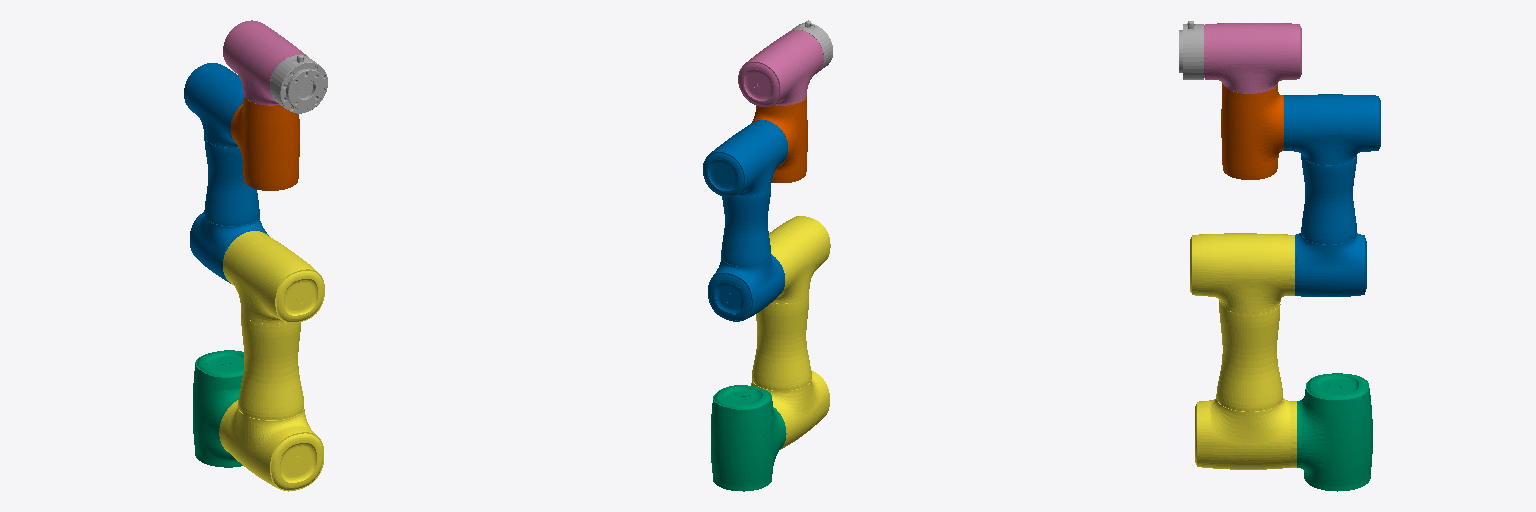
The robot description file, URDF, robot "cr3_robot":
<?xml version="1.0" encoding="utf-8"?>
<!-- This URDF was automatically created by SolidWorks to URDF Exporter! Originally created by [author] ([email redacted]) 
     Commit Version: 1.6.0-1-g15f4949  Build Version: 1.6.7594.29634
     For more information, please see http://wiki.ros.org/sw_urdf_exporter -->
<robot
  name="cr3_robot">
  <link name="dummy_link" />
  <link
    name="base_link">
    <inertial>
      <origin
        xyz="-0.0027213 3.915E-07 0.022038"
        rpy="0 0 0" />
      <mass
        value="0.653" />
      <inertia
        ixx="0.00075137"
        ixy="-3.0366E-08"
        ixz="1.2825E-06"
        iyy="0.00080094"
        iyz="2.5423E-09"
        izz="0.0010902" />
    </inertial>
    <visual>
      <origin
        xyz="0 0 0"
        rpy="0 0 -1.57" />
      <geometry>
        <mesh
          filename="package://tesr_ros_cr3_pkg/meshes/base_link.dae" />
      </geometry>
    </visual>
    <collision>
      <origin
        xyz="0 0 0"
        rpy="0 0 0" />
      <geometry>
        <mesh
          filename="package://tesr_ros_cr3_pkg/meshes/base_link.STL" />
      </geometry>
    </collision>
  </link>

    <joint name="dummy_joint" type="fixed">
      <parent link="dummy_link" />
      <child  link="base_link" />
    </joint>

  <link
    name="Link1">
    <inertial>
      <origin
        xyz="-3.68657602416735E-05 -0.00394516685385322 0.00364037839421286"
        rpy="0 0 0" />
      <mass
        value="1.31100598822002" />
      <inertia
        ixx="0.00202531167977736"
        ixy="-1.62039964254407E-06"
        ixz="4.44242218921916E-07"
        iyy="0.00198085794611413"
        iyz="0.000256891817572315"
        izz="0.00183966900872187" />
    </inertial>
    <visual>
      <origin
        xyz="0 0 0"
        rpy="0 0 0" />
      <geometry>
        <mesh
          filename="package://tesr_ros_cr3_pkg/meshes/Link1.dae" />
      </geometry>
    </visual>
    <collision>
      <origin
        xyz="0 0 0"
        rpy="0 0 0" />
      <geometry>
        <mesh
          filename="package://tesr_ros_cr3_pkg/meshes/Link1.STL" />
      </geometry>
    </collision>
  </link>
  <joint
    name="joint1"
    type="revolute">
    <origin
      xyz="0 0 0.1283"
      rpy="0 0 0" />
    <parent
      link="base_link" />
    <child
      link="Link1" />
    <axis
      xyz="0 0 1" />
    <limit
      lower="-3.14"
      upper="3.14"
      effort="0"
      velocity="0" />
  </joint>
  <link
    name="Link2">
    <inertial>
      <origin
        xyz="-0.129235280055448 1.440541622715E-05 0.133173619961293"
        rpy="0 0 0" />
      <mass
        value="3.40043726977504" />
      <inertia
        ixx="0.00450581324845612"
        ixy="1.58054368766225E-06"
        ixz="8.56287041890268E-05"
        iyy="0.00632329822349442"
        iyz="-4.41201729949356E-07"
        izz="0.00578241711656701" />
    </inertial>
    <visual>
      <origin
        xyz="0 0 0"
        rpy="0 0 0" />
      <geometry>
        <mesh
          filename="package://tesr_ros_cr3_pkg/meshes/Link2.dae" />
      </geometry>
    </visual>
    <collision>
      <origin
        xyz="0 0 0"
        rpy="0 0 0" />
      <geometry>
        <mesh
          filename="package://tesr_ros_cr3_pkg/meshes/Link2.STL" />
      </geometry>
    </collision>
  </link>
  <joint
    name="joint2"
    type="revolute">
    <origin
      xyz="0 0 0"
      rpy="1.5708 1.5708 0" />
    <parent
      link="Link1" />
    <child
      link="Link2" />
    <axis
      xyz="0 0 1" />
    <limit
      lower="-3.14"
      upper="3.14"
      effort="0"
      velocity="0" />
  </joint>
  <link
    name="Link3">
    <inertial>
      <origin
        xyz="-0.119822632176479 8.63344146663093E-08 0.0099876637825216"
        rpy="0 0 0" />
      <mass
        value="2.21449412948544" />
      <inertia
        ixx="0.00236120280734313"
        ixy="1.81888962826726E-08"
        ixz="0.000137629457194959"
        iyy="0.00313635345351584"
        iyz="-1.39166877342495E-08"
        izz="0.00285118872456311" />
    </inertial>
    <visual>
      <origin
        xyz="0 0 0"
        rpy="0 0 0" />
      <geometry>
        <mesh
          filename="package://tesr_ros_cr3_pkg/meshes/Link3.dae" />
      </geometry>
    </visual>
    <collision>
      <origin
        xyz="0 0 0"
        rpy="0 0 0" />
      <geometry>
        <mesh
          filename="package://tesr_ros_cr3_pkg/meshes/Link3.STL" />
      </geometry>
    </collision>
  </link>
  <joint
    name="joint3"
    type="revolute">
    <origin
      xyz="-0.274 0 0"
      rpy="0 0 0" />
    <parent
      link="Link2" />
    <child
      link="Link3" />
    <axis
      xyz="0 0 1" />
    <limit
      lower="-3.14"
      upper="3.14"
      effort="0"
      velocity="0" />
  </joint>
  <link
    name="Link4">
    <inertial>
      <origin
        xyz="1.74679534498573E-07 0.0034522361215461 -0.0028730999658578"
        rpy="0 0 0" />
      <mass
        value="0.842272956366123" />
      <inertia
        ixx="0.00100389823526424"
        ixy="-3.26498724132116E-09"
        ixz="-3.83652674720848E-09"
        iyy="0.000793473566890046"
        iyz="0.000133420135294005"
        izz="0.000993889852029541" />
    </inertial>
    <visual>
      <origin
        xyz="0 0 0"
        rpy="0 0 0" />
      <geometry>
        <mesh
          filename="package://tesr_ros_cr3_pkg/meshes/Link4.dae" />
      </geometry>
    </visual>
    <collision>
      <origin
        xyz="0 0 0"
        rpy="0 0 0" />
      <geometry>
        <mesh
          filename="package://tesr_ros_cr3_pkg/meshes/Link4.STL" />
      </geometry>
    </collision>
  </link>
  <joint
    name="joint4"
    type="revolute">
    <origin
      xyz="-0.23 0 0.1283"
      rpy="0 0 -1.5708" />
    <parent
      link="Link3" />
    <child
      link="Link4" />
    <axis
      xyz="0 0 1" />
    <limit
      lower="-3.14"
      upper="3.14"
      effort="0"
      velocity="0" />
  </joint>
  <link
    name="Link5">
    <inertial>
      <origin
        xyz="-1.74603758796282E-07 -0.00333192403958193 -0.00286780844130663"
        rpy="0 0 0" />
      <mass
        value="0.843692877114241" />
      <inertia
        ixx="0.0010085532680982"
        ixy="-7.28325271824168E-09"
        ixz="9.25818664621925E-09"
        iyy="0.000794614679668754"
        iyz="-0.000133904812596915"
        izz="0.000998497358703575" />
    </inertial>
    <visual>
      <origin
        xyz="0 0 0"
        rpy="0 0 0" />
      <geometry>
        <mesh
          filename="package://tesr_ros_cr3_pkg/meshes/Link5.dae" />
      </geometry>
    </visual>
    <collision>
      <origin
        xyz="0 0 0"
        rpy="0 0 0" />
      <geometry>
        <mesh
          filename="package://tesr_ros_cr3_pkg/meshes/Link5.STL" />
      </geometry>
    </collision>
  </link>
  <joint
    name="joint5"
    type="revolute">
    <origin
      xyz="0 -0.116 0"
      rpy="1.5708 0 0" />
    <parent
      link="Link4" />
    <child
      link="Link5" />
    <axis
      xyz="0 0 1" />
    <limit
      lower="-3.14"
      upper="3.14"
      effort="0"
      velocity="0" />
  </joint>
  <link
    name="Link6">
    <inertial>
      <origin
        xyz="-5.77233004964394E-07 0.000270130842674243 -0.0201386770129675"
        rpy="0 0 0" />
      <mass
        value="0.159409278145106" />
      <inertia
        ixx="8.29484481057063E-05"
        ixy="-1.45209400395148E-09"
        ixz="-1.72340872805449E-11"
        iyy="8.35928339777967E-05"
        iyz="-1.33911019721127E-07"
        izz="0.000131911087085913" />
    </inertial>
    <visual>
      <origin
        xyz="0 0 0"
        rpy="0 0 0" />
      <geometry>
        <mesh
          filename="package://tesr_ros_cr3_pkg/meshes/Link6.dae" />
      </geometry>
    </visual>
    <collision>
      <origin
        xyz="0 0 0"
        rpy="0 0 0" />
      <geometry>
        <mesh
          filename="package://tesr_ros_cr3_pkg/meshes/Link6.STL" />
      </geometry>
    </collision>
  </link>
  <joint
    name="joint6"
    type="revolute">
    <origin
      xyz="0 0.105 0"
      rpy="-1.5708 0 0" />
    <parent
      link="Link5" />
    <child
      link="Link6" />
    <axis
      xyz="0 0 1" />
    <limit
      lower="-3.14"
      upper="3.14"
      effort="0"
      velocity="0" />
  </joint>
</robot>

--- What the picture shows (computed from the rendered views, not written in the file) ---
3 views of the same robot in one strip: view 1: azimuth 30°, elevation 25°; view 2: azimuth 150°, elevation 25°; view 3: azimuth 270°, elevation 25° (orthographic).
Model cr3_robot with 8 links and 7 joints (6 revolute, 1 fixed), rooted at dummy_link, posed all joints at 0.
Visible links, largest first — view 1: Link2, Link3, Link4, Link1, Link5, Link6; view 2: Link3, Link2, Link1, Link5, Link4, Link6; view 3: Link2, Link3, Link1, Link5, Link4, Link6.
Boxes of the visible links, bbox=[...] form: Link2: bbox=[219, 231, 324, 491]; Link3: bbox=[184, 63, 268, 283]; Link4: bbox=[231, 97, 299, 190]; Link1: bbox=[193, 350, 243, 467]; Link5: bbox=[223, 20, 307, 104]; Link6: bbox=[270, 54, 327, 113]; Link3: bbox=[703, 120, 787, 321]; Link2: bbox=[751, 216, 830, 449]; Link1: bbox=[711, 385, 786, 491]; Link5: bbox=[738, 30, 823, 106]; Link4: bbox=[752, 97, 807, 182]; Link6: bbox=[789, 20, 832, 70]; Link2: bbox=[1190, 233, 1296, 469]; Link3: bbox=[1284, 94, 1380, 296]; Link1: bbox=[1297, 373, 1372, 491]; Link5: bbox=[1204, 23, 1301, 93]; Link4: bbox=[1221, 83, 1283, 179]; Link6: bbox=[1179, 21, 1203, 79].
Bounding box of the posed robot: 0.104 × 0.2975 × 0.7391 m (x, y, z).
6 mesh visuals loaded from 7 distinct referenced files (6 Collada DAE); not drawn: 1 (reference not matched to a file when rendering).